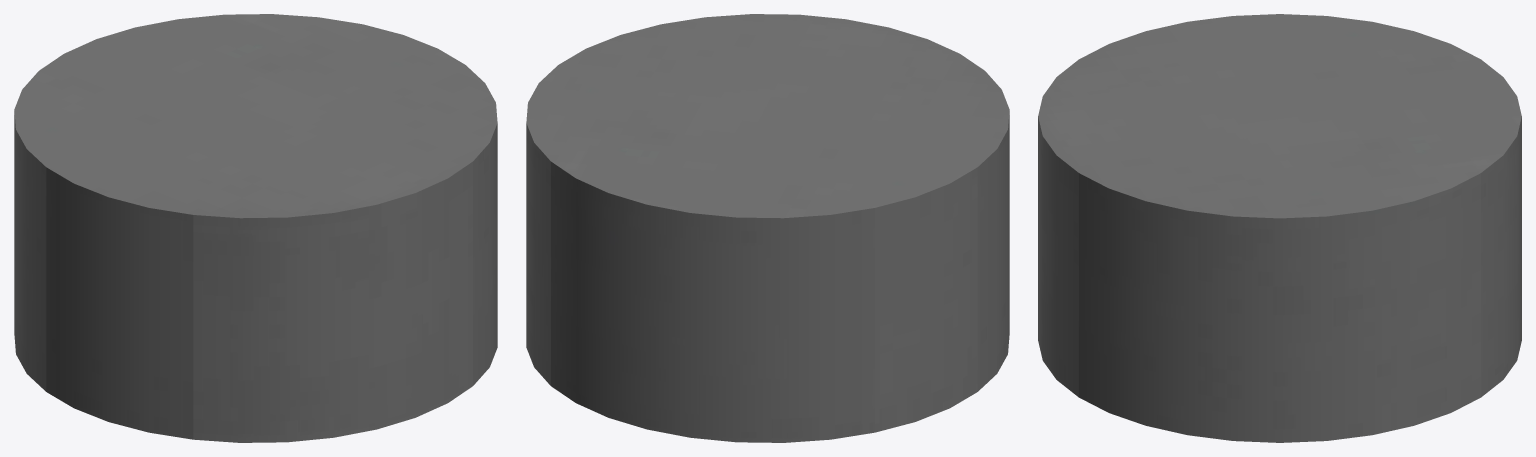
File: wheel_0__hub.glb
The picture shows the model from 3 angles, left to right: view 1: azimuth 30°, elevation 25°; view 2: azimuth 150°, elevation 25°; view 3: azimuth 270°, elevation 25°; orthographic projection.
Parts seen in each view (by area): view 1: geometry_0; view 2: geometry_0; view 3: geometry_0.
Boxes of the visible parts, x1,y1,x2,y2 form: geometry_0: [14, 14, 497, 442]; geometry_0: [526, 14, 1009, 442]; geometry_0: [1038, 14, 1521, 442].
Size of the model in its own units: 0.082 by 0.042 by 0.082.
1 material, 1 textured.
